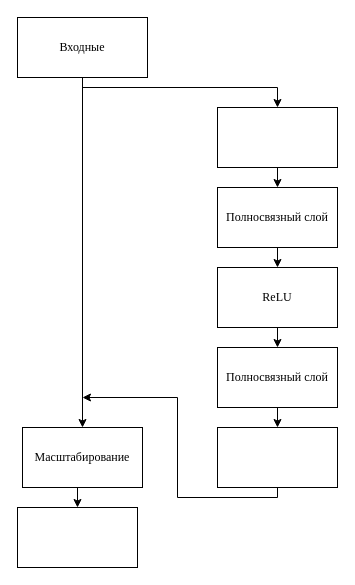
The diagram is 355 pixels wide and 585 high, and some of its shapes have lost their labels. Here are the shapes that lost their labels. From the top down, the centre of each, then its label:
[277,137]: Глобальный пуллинг
[277,457]: Sigmoid
[77,537]: Выходные
